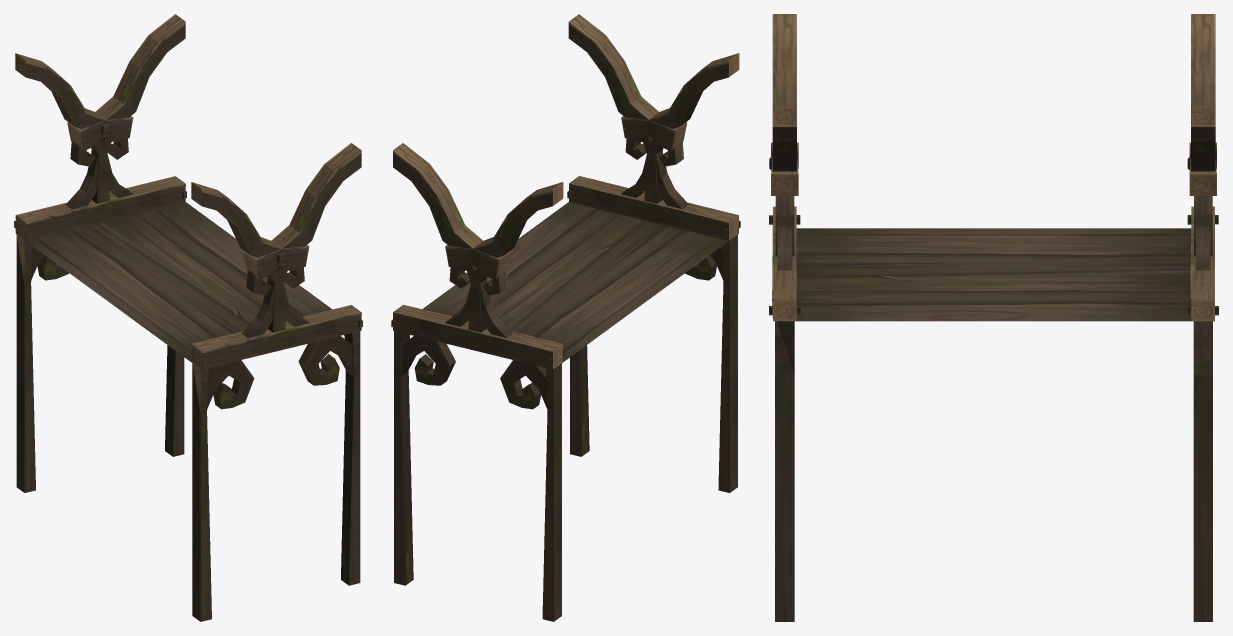
Rendered from wooden_bridge_02.fbx.
3 views of the same model, side by side, from view 1: azimuth 30°, elevation 25°; view 2: azimuth 150°, elevation 25°; view 3: azimuth 270°, elevation 25° (orthographic). The views are drawn at different scales.
Parts seen in each view (by area): view 1: obj1.028; view 2: obj1.028; view 3: obj1.028.
Boxes of the visible parts, <box> form: obj1.028: <box>14,14,362,621</box>; obj1.028: <box>391,14,740,621</box>; obj1.028: <box>769,14,1218,621</box>.
Size of the model in its own units: 4.01 by 10.35 by 8.19.
